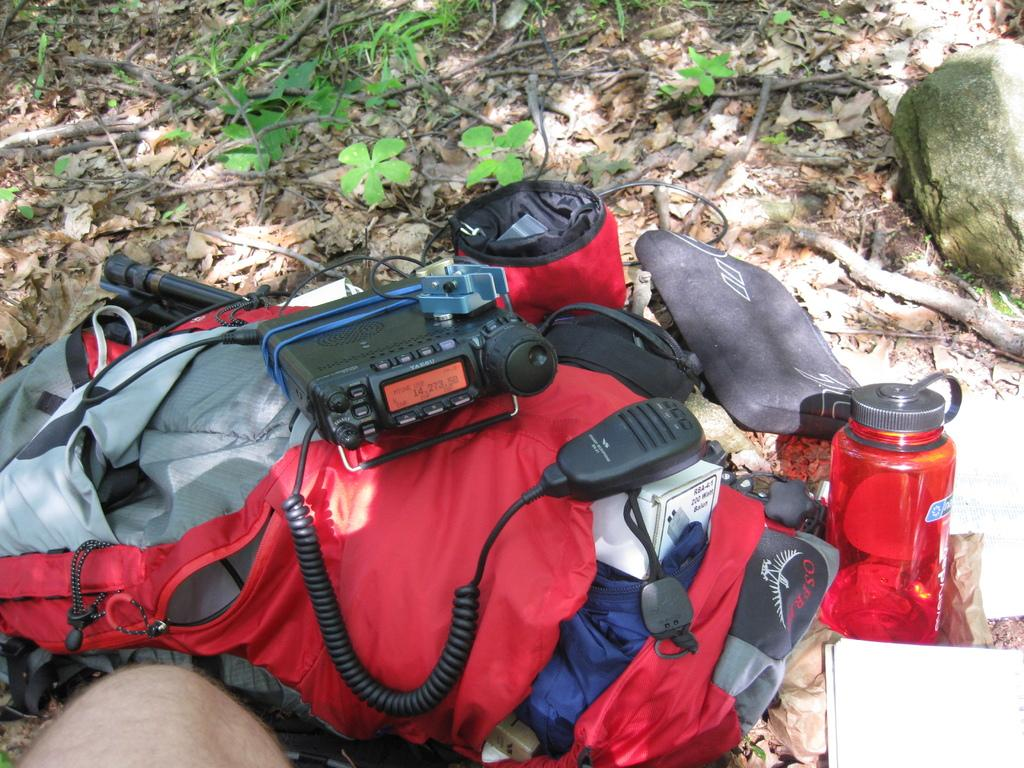Luggage-and-bags: (49, 253, 834, 740)
